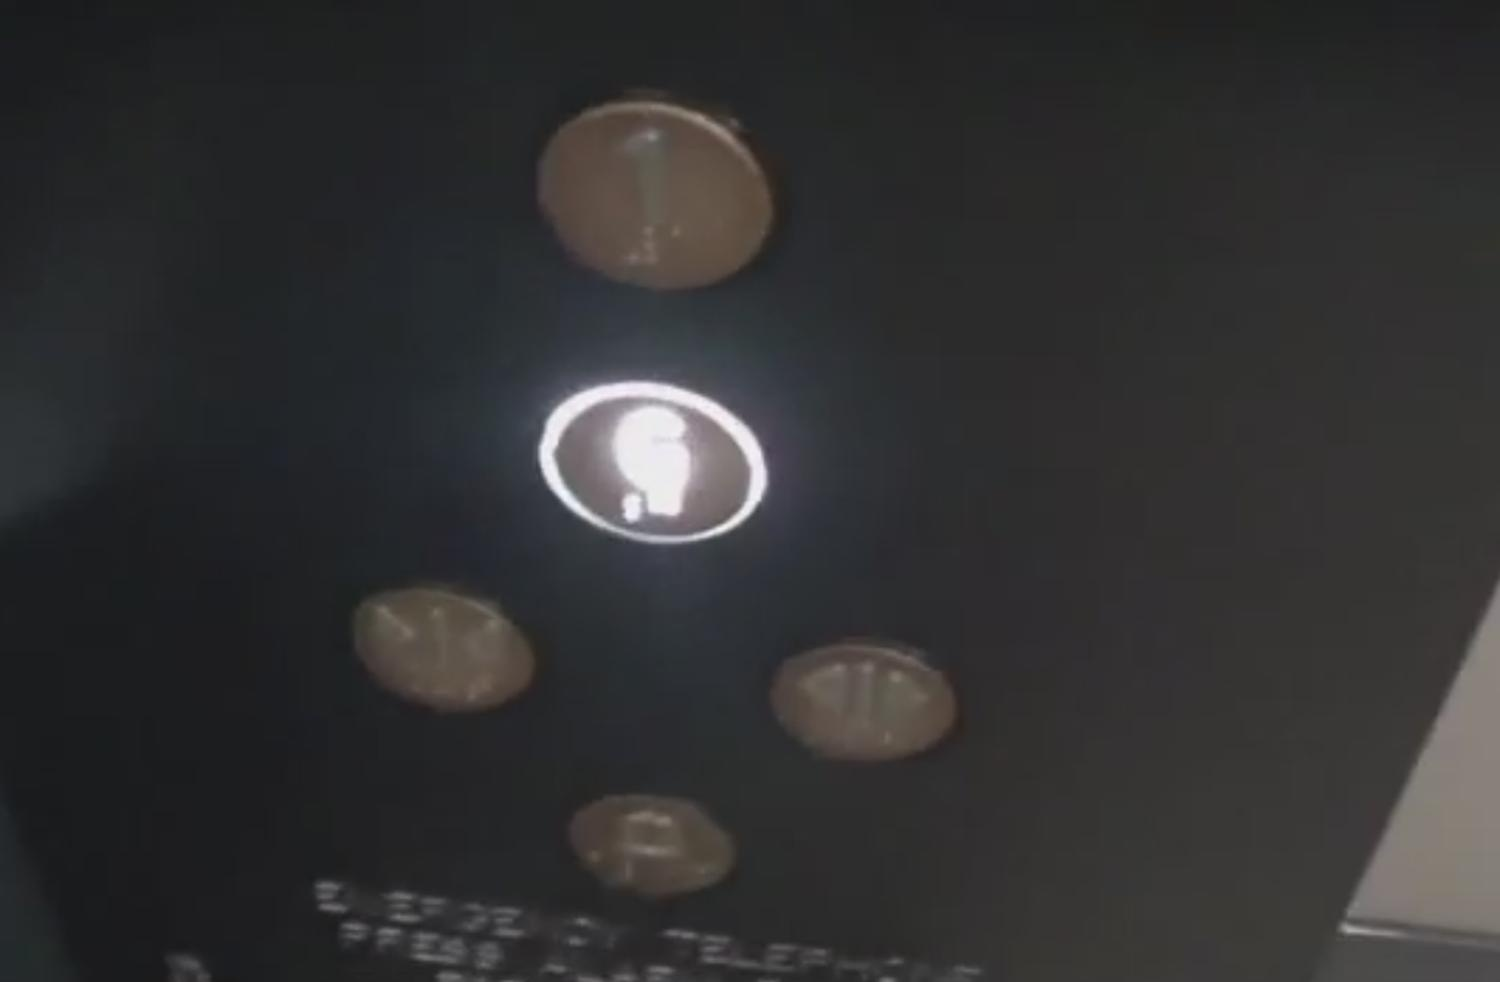1: (531, 92, 778, 295)
G: (535, 377, 772, 547)
P: (566, 787, 740, 906)
close: (341, 581, 543, 717)
open: (771, 633, 965, 768)
